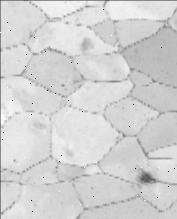good_void: (133, 164, 156, 188), (77, 35, 98, 53), (89, 186, 95, 191), (55, 165, 59, 171), (60, 83, 65, 87), (13, 157, 16, 163)
